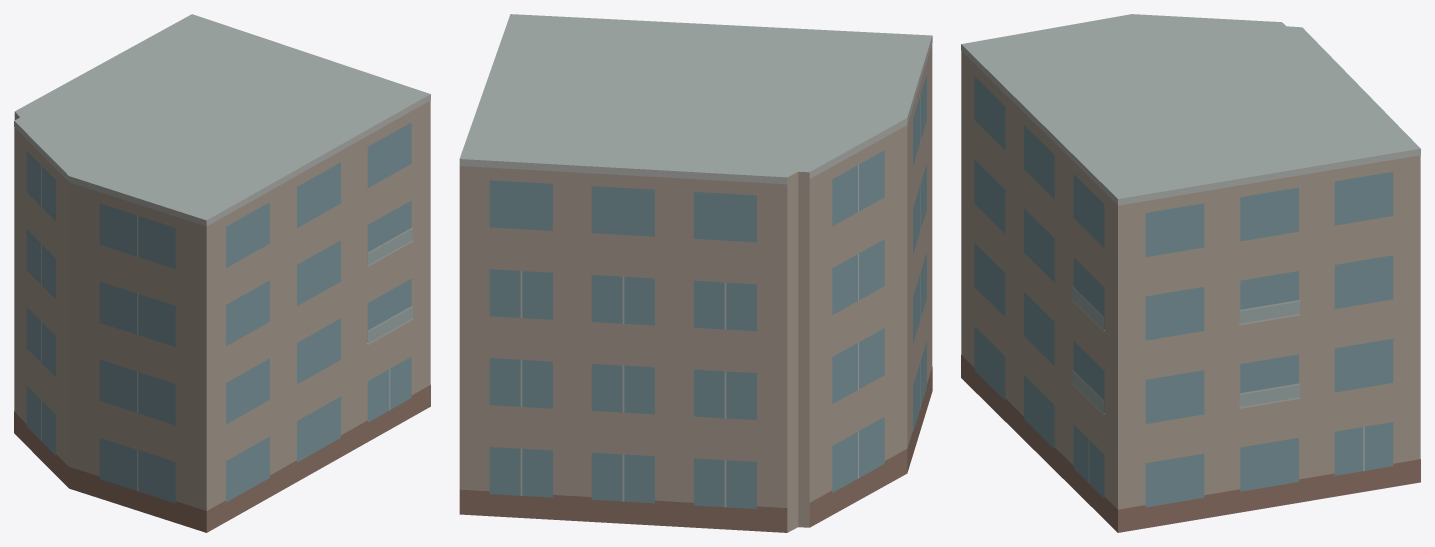
File: survey-upis-32664966.glb
3 renders of one model, left to right at view 1: azimuth 30°, elevation 25°; view 2: azimuth 150°, elevation 25°; view 3: azimuth 270°, elevation 25°, orthographic. The views are drawn at different scales.
Parts seen in each view (by area): view 1: survey-upis-32664966.tmp; view 2: survey-upis-32664966.tmp; view 3: survey-upis-32664966.tmp.
Part boxes in pixels (<box>): survey-upis-32664966.tmp: <box>14,14,430,532</box>; survey-upis-32664966.tmp: <box>459,14,932,532</box>; survey-upis-32664966.tmp: <box>961,14,1420,532</box>.
Bounding box in the file's own units: 14.88 × 12.5 × 15.61.
